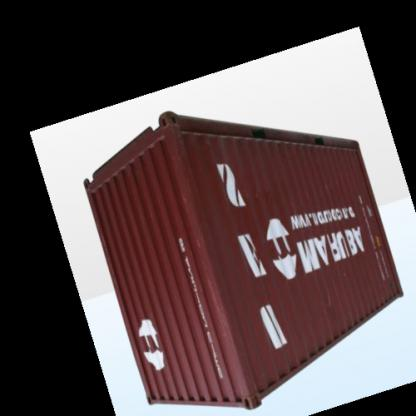Damage: (170, 128, 216, 160), (241, 184, 279, 216), (304, 300, 328, 332)
